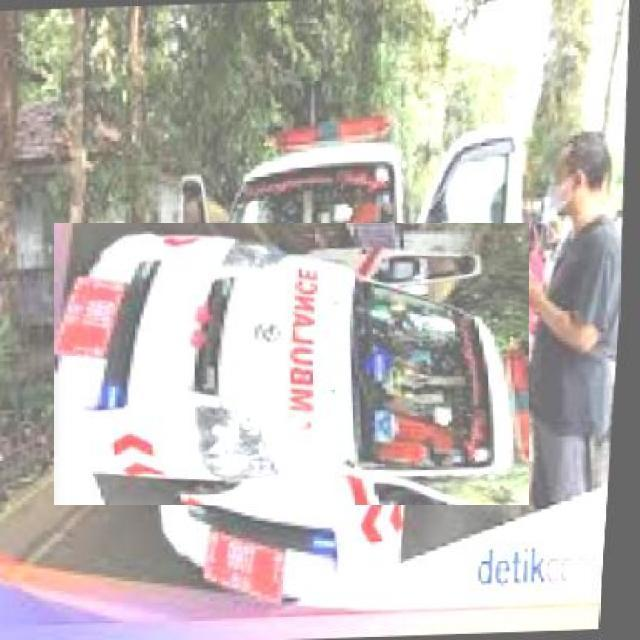emergency-vehicle: (102, 174, 480, 554)
